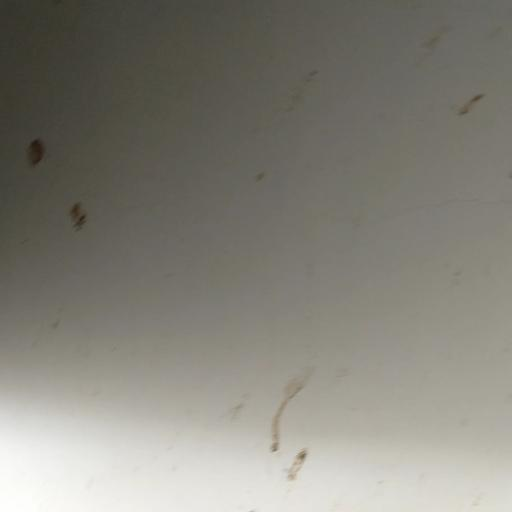stain: (221, 356, 342, 496), (277, 52, 318, 127), (406, 13, 456, 74), (54, 191, 94, 249), (23, 132, 57, 186), (452, 83, 491, 121), (480, 16, 508, 54), (246, 156, 276, 191)
